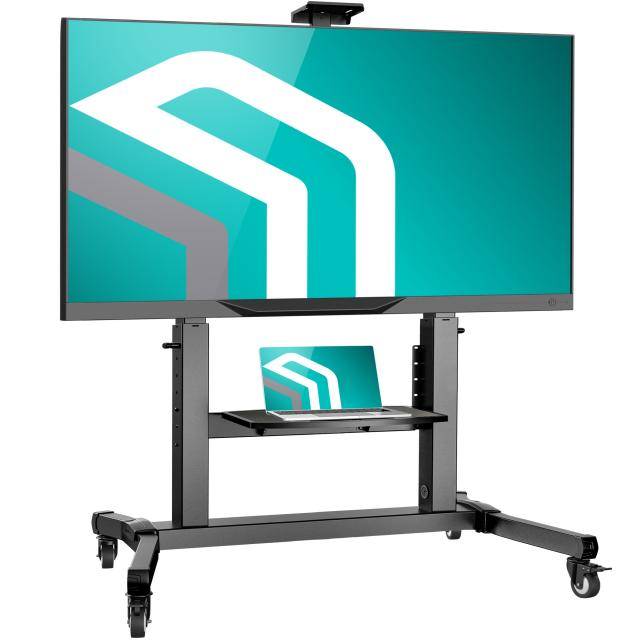electronics: (62, 2, 607, 637), (62, 19, 572, 319), (259, 346, 410, 420), (210, 406, 448, 436), (267, 407, 411, 421), (291, 1, 364, 27), (307, 410, 323, 415), (327, 409, 340, 413), (212, 436, 217, 437), (279, 412, 282, 413), (289, 412, 290, 413)
